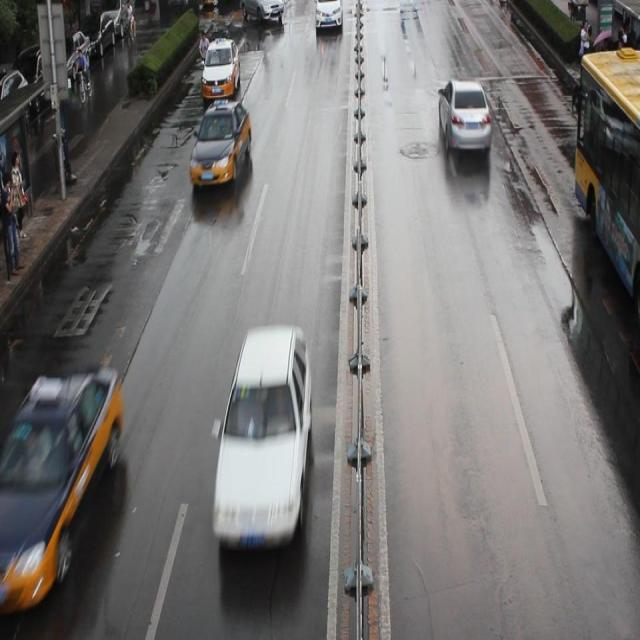car: (0, 364, 124, 606), (210, 325, 310, 553), (188, 99, 251, 189), (437, 76, 490, 154), (200, 36, 240, 98), (239, 1, 284, 25), (314, 1, 343, 33)
van: (574, 45, 640, 319)
